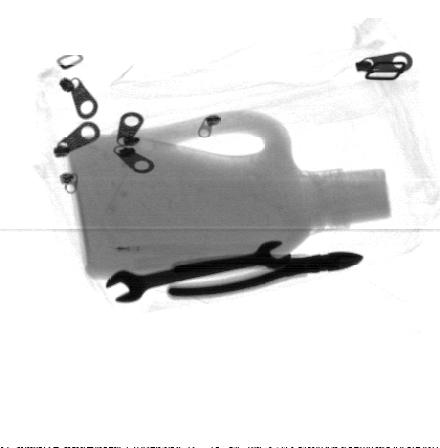Pliers: (169, 251, 366, 296)
Wrench: (105, 240, 292, 301)
